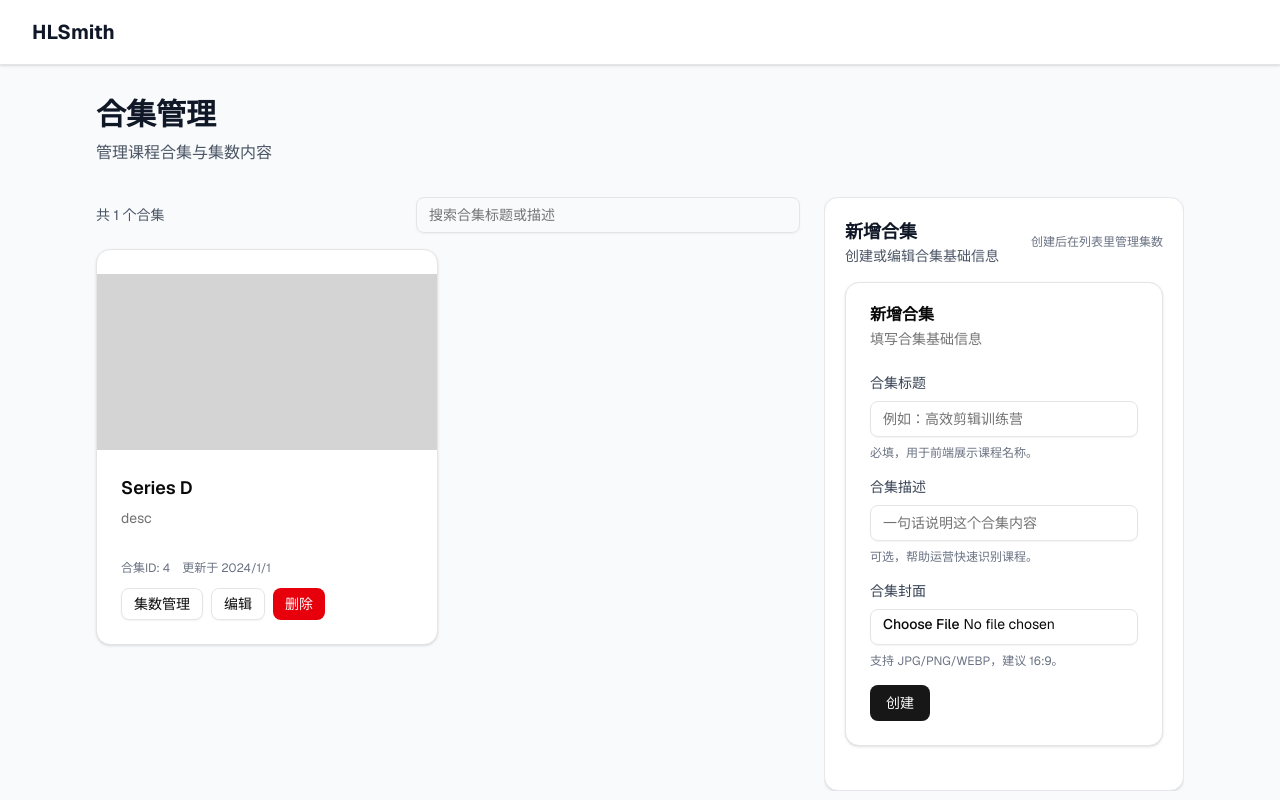
CollectionsPage › deletes collection successfully
Expected: the text "Series D" is shown, [121,476,193,499]
Click the button "删除". click: (299, 604)
box: [273,588,325,620]
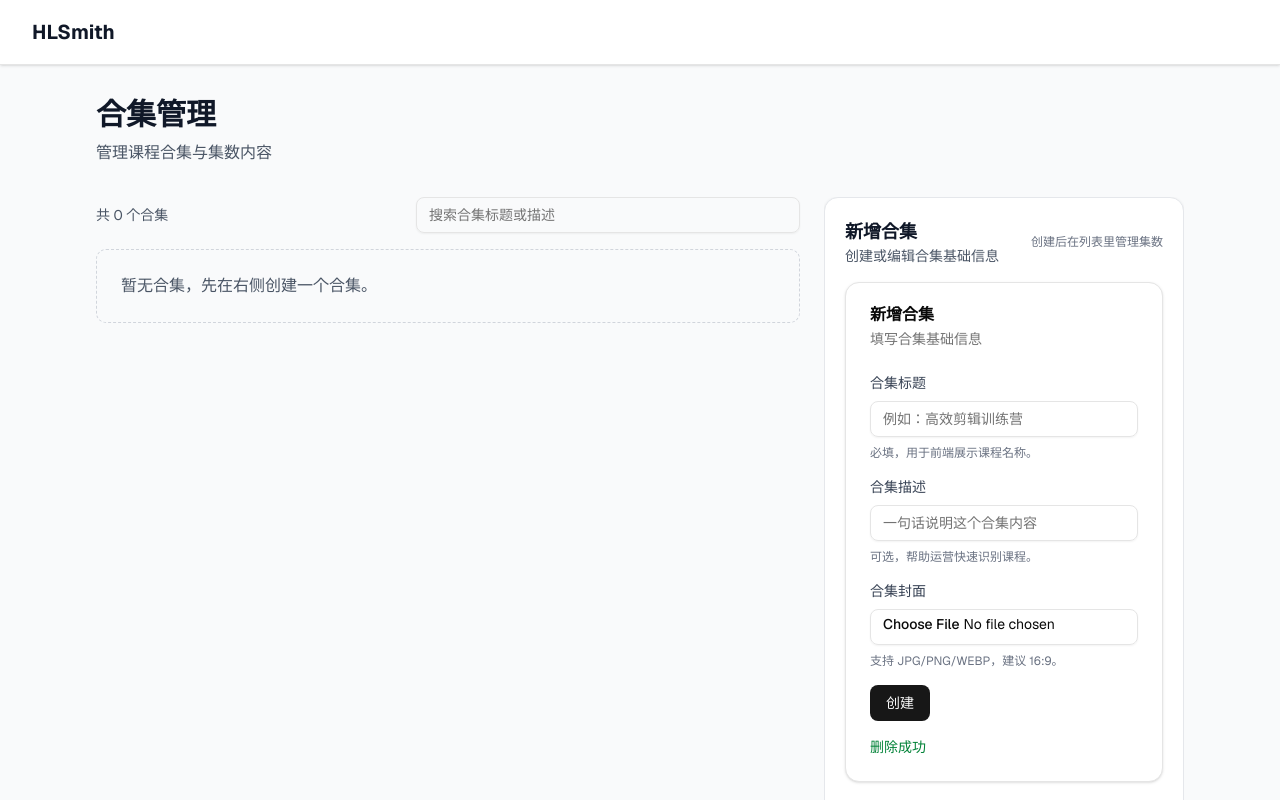
Now the text "删除成功" is shown, box [870,738,926,756]
Now the text "Series D" is gone
